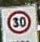limite 30: (6, 10, 31, 33)
